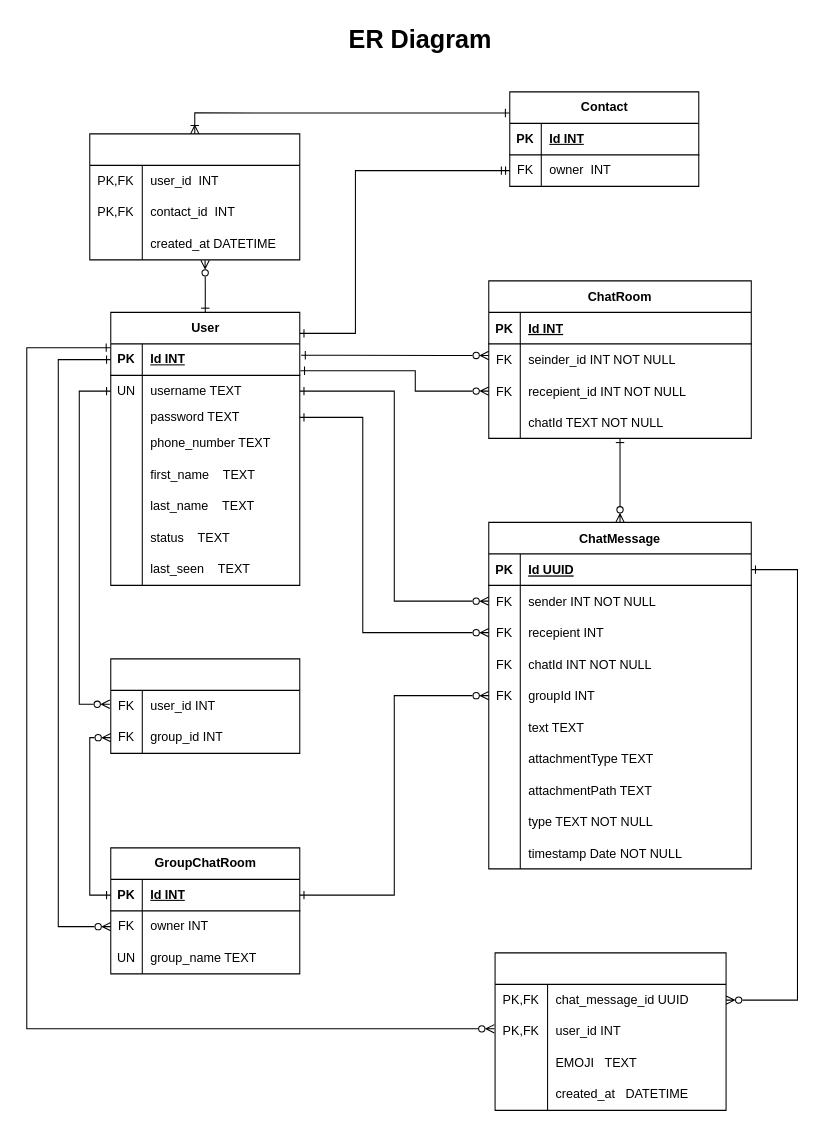
This 825x1129 diagram has some shape labels left out. The box of each missing label's shape, as (x1, y1, x2, y2) in pixels:
ChatReaction: (494, 952, 726, 1110)
UserContact: (89, 133, 300, 260)
UserGroup: (110, 658, 300, 753)
